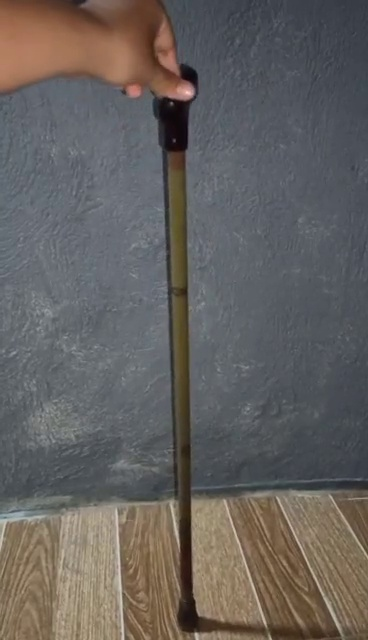cane: (146, 64, 202, 628)
hand: (1, 1, 194, 105)
